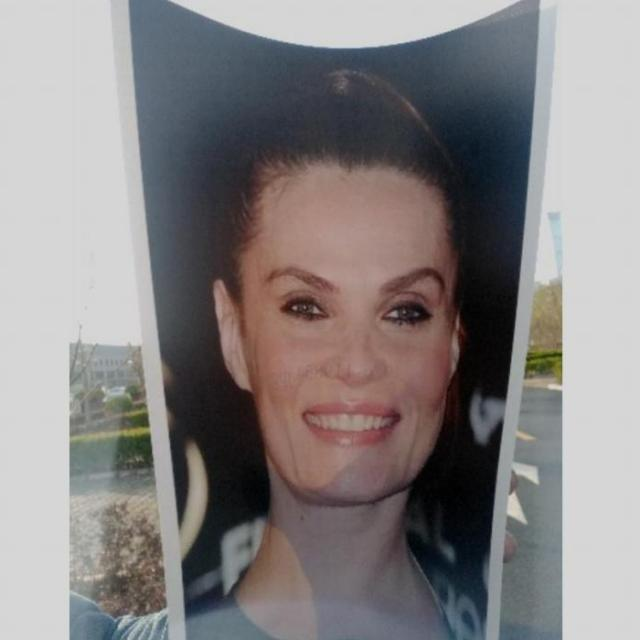photo: (104, 0, 562, 640)
